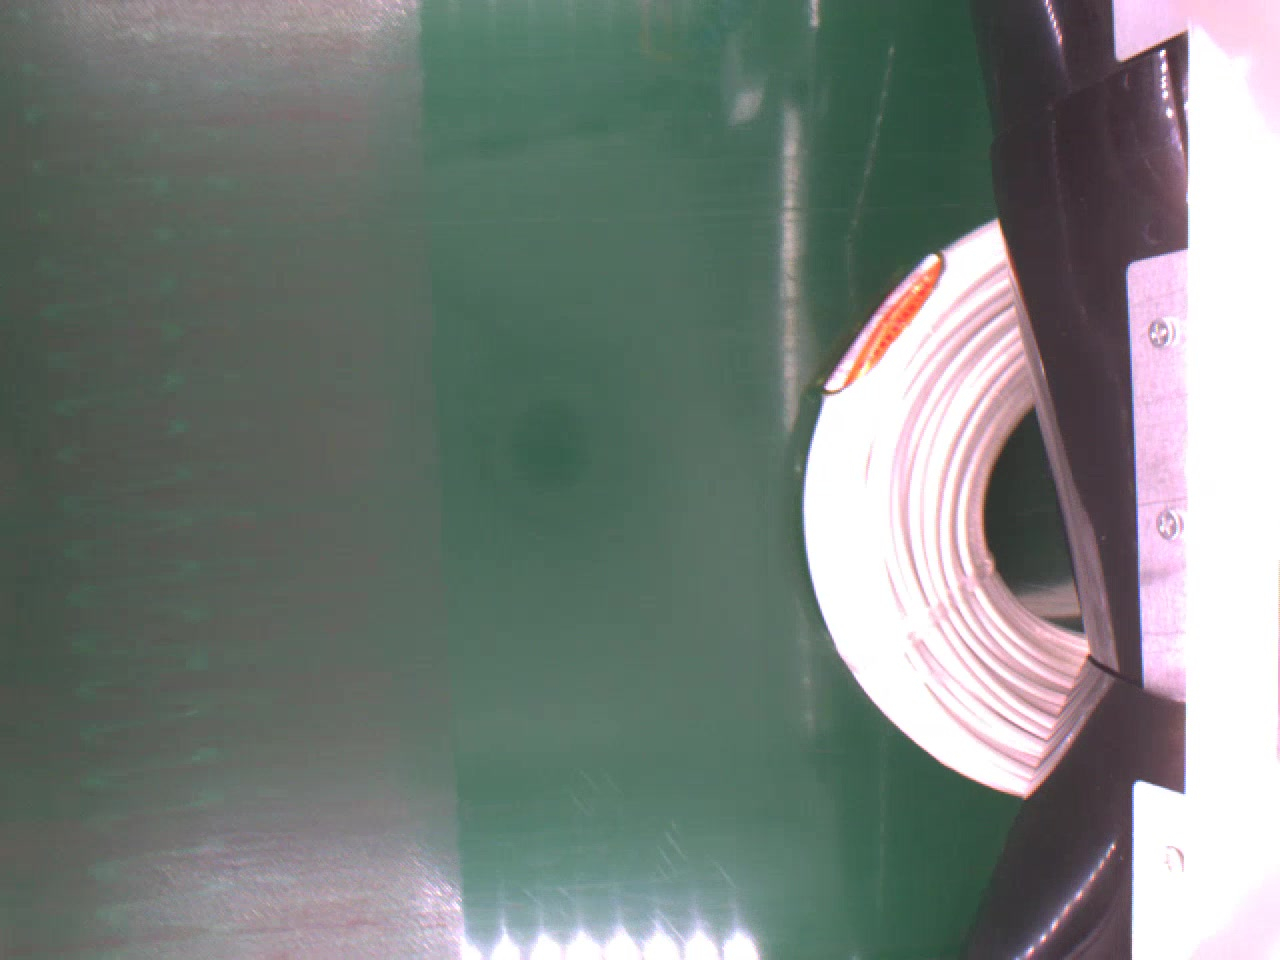white: (797, 217, 1087, 797)
